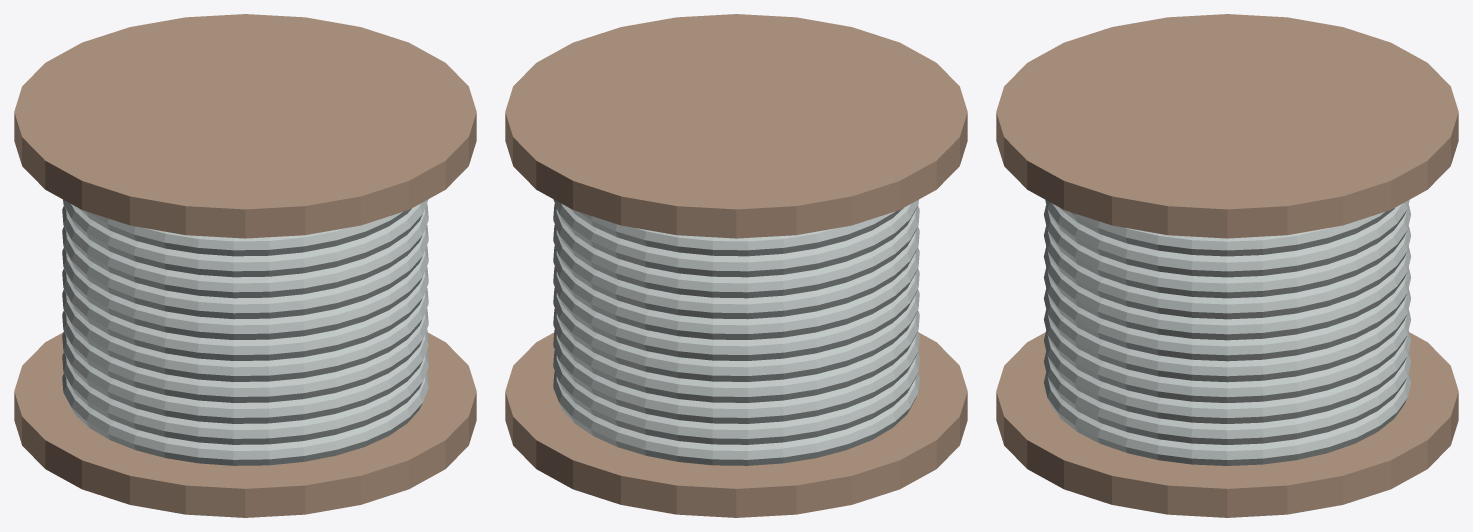
3 renders of one model, left to right at view 1: azimuth 30°, elevation 25°; view 2: azimuth 150°, elevation 25°; view 3: azimuth 270°, elevation 25°, orthographic.
Parts seen in each view (by area): view 1: spool flange.001, spool flange, wound cable, wound cable.003, wound cable.001, wound cable.002, wound cable.004, wound cable.005, wound cable.006, wound cable.007, wound cable.008, wound cable.009 (+1 smaller); view 2: spool flange.001, spool flange, wound cable, wound cable.003, wound cable.001, wound cable.002, wound cable.004, wound cable.005, wound cable.006, wound cable.007, wound cable.008, wound cable.009 (+1 smaller); view 3: spool flange.001, spool flange, wound cable, wound cable.008, wound cable.006, wound cable.001, wound cable.007, wound cable.005, wound cable.002, wound cable.004, wound cable.003, wound cable.009 (+1 smaller).
Part boxes in pixels (x1=…): spool flange.001: x1=14, y1=14, x2=476, y2=238; spool flange: x1=14, y1=332, x2=476, y2=517; wound cable: x1=62, y1=371, x2=428, y2=465; wound cable.003: x1=62, y1=308, x2=428, y2=402; wound cable.001: x1=62, y1=350, x2=428, y2=444; wound cable.002: x1=62, y1=329, x2=428, y2=423; wound cable.004: x1=62, y1=287, x2=428, y2=381; wound cable.005: x1=62, y1=266, x2=428, y2=360; wound cable.006: x1=62, y1=246, x2=428, y2=339; wound cable.007: x1=62, y1=225, x2=428, y2=319; wound cable.008: x1=62, y1=204, x2=428, y2=298; wound cable.009: x1=63, y1=199, x2=428, y2=277; spool flange.001: x1=505, y1=14, x2=967, y2=238; spool flange: x1=505, y1=332, x2=967, y2=517; wound cable: x1=553, y1=371, x2=919, y2=465; wound cable.003: x1=553, y1=308, x2=919, y2=402; wound cable.001: x1=553, y1=350, x2=919, y2=444; wound cable.002: x1=553, y1=329, x2=919, y2=423; wound cable.004: x1=553, y1=287, x2=919, y2=381; wound cable.005: x1=553, y1=266, x2=919, y2=360; wound cable.006: x1=553, y1=246, x2=919, y2=339; wound cable.007: x1=553, y1=225, x2=919, y2=319; wound cable.008: x1=553, y1=204, x2=919, y2=298; wound cable.009: x1=553, y1=199, x2=918, y2=277; spool flange.001: x1=996, y1=14, x2=1458, y2=238; spool flange: x1=996, y1=332, x2=1458, y2=517; wound cable: x1=1044, y1=372, x2=1410, y2=465; wound cable.008: x1=1044, y1=205, x2=1410, y2=298; wound cable.006: x1=1043, y1=246, x2=1411, y2=340; wound cable.001: x1=1044, y1=351, x2=1410, y2=444; wound cable.007: x1=1044, y1=226, x2=1410, y2=319; wound cable.005: x1=1044, y1=267, x2=1410, y2=361; wound cable.002: x1=1044, y1=330, x2=1410, y2=423; wound cable.004: x1=1044, y1=288, x2=1410, y2=382; wound cable.003: x1=1044, y1=309, x2=1410, y2=402; wound cable.009: x1=1045, y1=200, x2=1409, y2=277.
Size of the model in its own units: 0.36 by 0.265 by 0.36.
